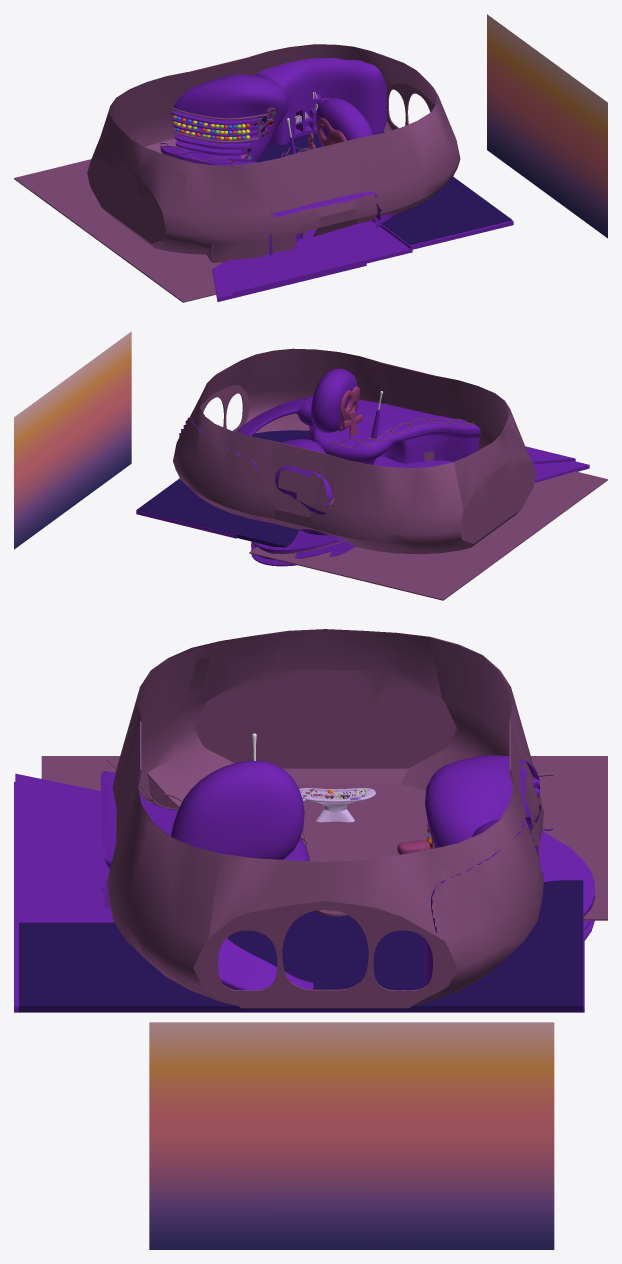
File: inside3.glb
3 views of the same model, one above another, from view 1: azimuth 30°, elevation 25°; view 2: azimuth 150°, elevation 25°; view 3: azimuth 270°, elevation 25° (orthographic). The views are drawn at different scales.
Visible parts, largest first — view 1: wall, flat,750x,075,f-pad,750x1000,f8f8f8, left structure, Cube, library, Cube.003, Cube.015, Cube.001, Cube.006, right structure, Cube.002, BézierCurve.002 (+2 smaller); view 2: wall, flat,750x,075,f-pad,750x1000,f8f8f8, Cube, right structure, Cube.015, left structure, Cube.006, Cube.003, windows, Cube.001, Cube.008, Cube.002 (+3 smaller); view 3: wall, flat,750x,075,f-pad,750x1000,f8f8f8, Cube.015, Cube, windows, Cube.003, Cube.006, left structure, right structure, Cube.001, Assembly 1 (2), Cube.002 (+1 smaller).
Boxes of the visible parts, <box> form: wall: <box>87,44,460,262</box>; flat,750x,075,f-pad,750x1000,f8f8f8: <box>487,14,607,238</box>; left structure: <box>160,74,288,165</box>; Cube: <box>14,159,222,302</box>; library: <box>255,58,386,144</box>; Cube.003: <box>233,221,412,295</box>; Cube.015: <box>255,131,511,244</box>; Cube.001: <box>212,257,366,301</box>; Cube.006: <box>315,98,373,146</box>; right structure: <box>269,192,396,256</box>; Cube.002: <box>372,220,513,249</box>; BézierCurve.002: <box>171,107,276,142</box>; wall: <box>173,348,536,554</box>; flat,750x,075,f-pad,750x1000,f8f8f8: <box>14,331,131,549</box>; Cube: <box>249,471,607,600</box>; right structure: <box>236,395,480,464</box>; Cube.015: <box>136,430,309,547</box>; left structure: <box>251,439,345,554</box>; Cube.006: <box>311,368,357,432</box>; Cube.003: <box>373,446,575,467</box>; windows: <box>200,384,250,431</box>; Cube.001: <box>533,461,589,482</box>; Cube.008: <box>338,386,360,431</box>; Cube.002: <box>136,510,236,538</box>; wall: <box>107,629,543,1005</box>; flat,750x,075,f-pad,750x1000,f8f8f8: <box>149,1022,554,1249</box>; Cube.015: <box>19,880,583,1011</box>; Cube: <box>41,756,607,920</box>; windows: <box>193,901,457,1008</box>; Cube.003: <box>14,781,113,922</box>; Cube.006: <box>170,760,304,859</box>; left structure: <box>425,755,594,916</box>; right structure: <box>100,771,313,990</box>; Cube.001: <box>15,773,103,825</box>; Assembly 1 (2): <box>299,788,375,822</box>; Cube.002: <box>14,922,584,1012</box>.
Size of the model in its own units: 89.51 by 32.58 by 60.16.
Materials: 22 (1 with a texture image).
